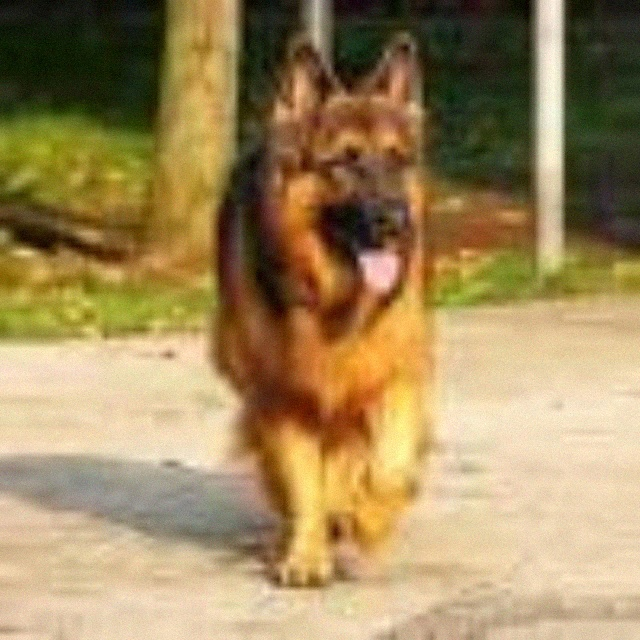dog: (197, 19, 478, 595)
